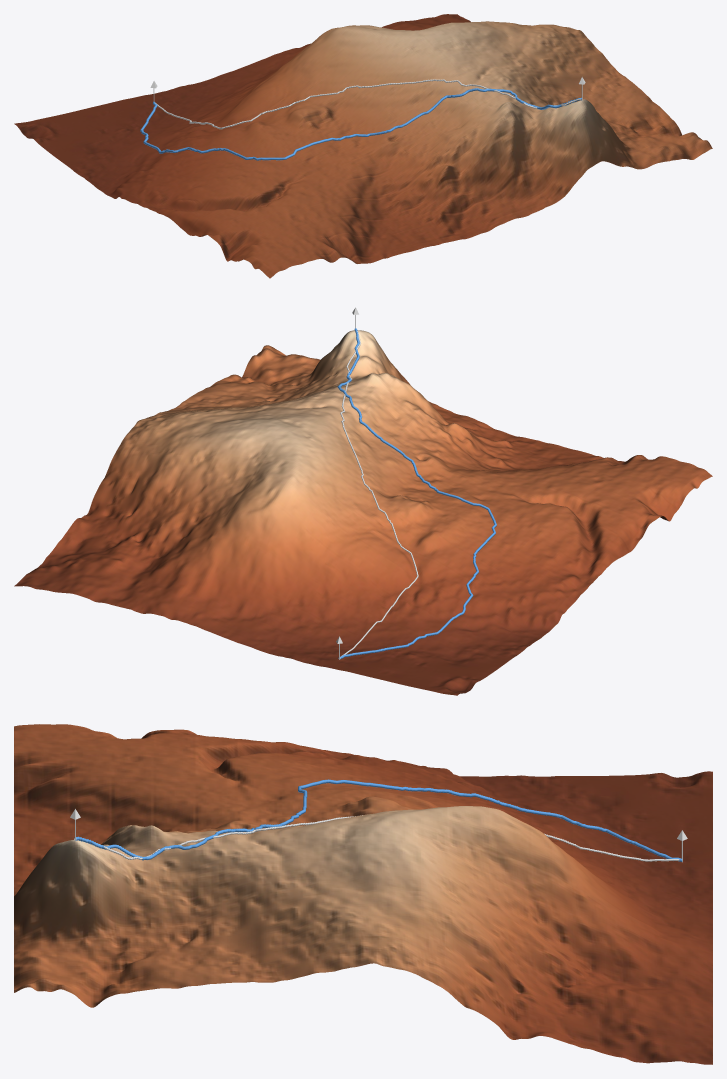
File: gale_terrain.glb
3 views of the same model, one above another, from view 1: azimuth 30°, elevation 25°; view 2: azimuth 150°, elevation 25°; view 3: azimuth 270°, elevation 25° (orthographic). The views are drawn at different scales.
Visible parts, largest first — view 1: Terreno_Gale, Ruta_modelo, Ruta_corta; view 2: Terreno_Gale, Ruta_modelo, Ruta_corta; view 3: Terreno_Gale, Ruta_modelo, Ruta_corta.
Part boxes in pixels (x1,y1,x2,y2): Terreno_Gale: (14, 14, 712, 278); Ruta_modelo: (140, 88, 581, 160); Ruta_corta: (155, 79, 582, 129); Terreno_Gale: (14, 330, 712, 695); Ruta_modelo: (337, 328, 496, 659); Ruta_corta: (340, 330, 418, 658); Terreno_Gale: (14, 724, 712, 1064); Ruta_modelo: (74, 779, 682, 861); Ruta_corta: (74, 815, 679, 861).
Size of the model in its own units: 100 by 30.77 by 100.
Materials: 3 (1 with a texture image).
